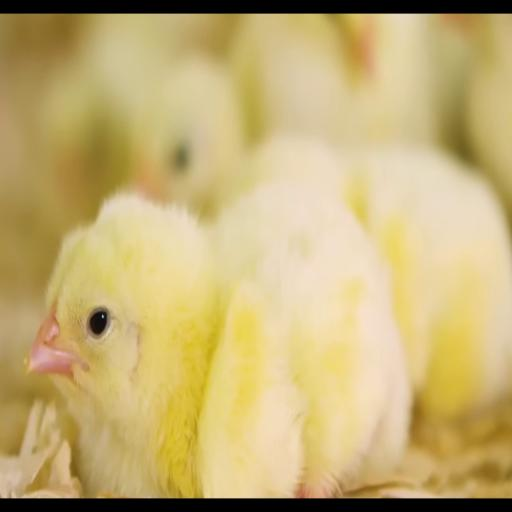chick: (28, 182, 410, 497), (132, 54, 246, 217)
